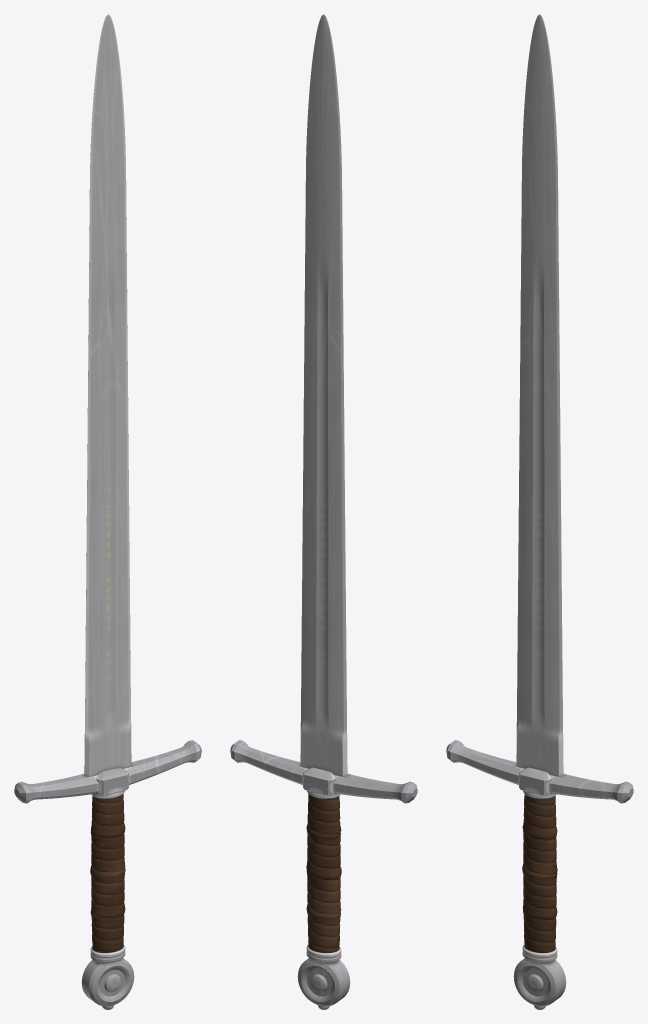
File: SM_SteelSword.glb
3 renders of one model, left to right at view 1: azimuth 30°, elevation 25°; view 2: azimuth 150°, elevation 25°; view 3: azimuth 330°, elevation 25°, orthographic.
Visible parts, largest first — view 1: SM_SteelSword; view 2: SM_SteelSword; view 3: SM_SteelSword.
Boxes of the visible parts, x1=… form: SM_SteelSword: x1=14, y1=14, x2=201, y2=1009; SM_SteelSword: x1=230, y1=14, x2=417, y2=1009; SM_SteelSword: x1=446, y1=14, x2=633, y2=1009.
Size of the model in its own units: 0.2 by 1.04 by 0.0296.
1 material, 1 textured.
